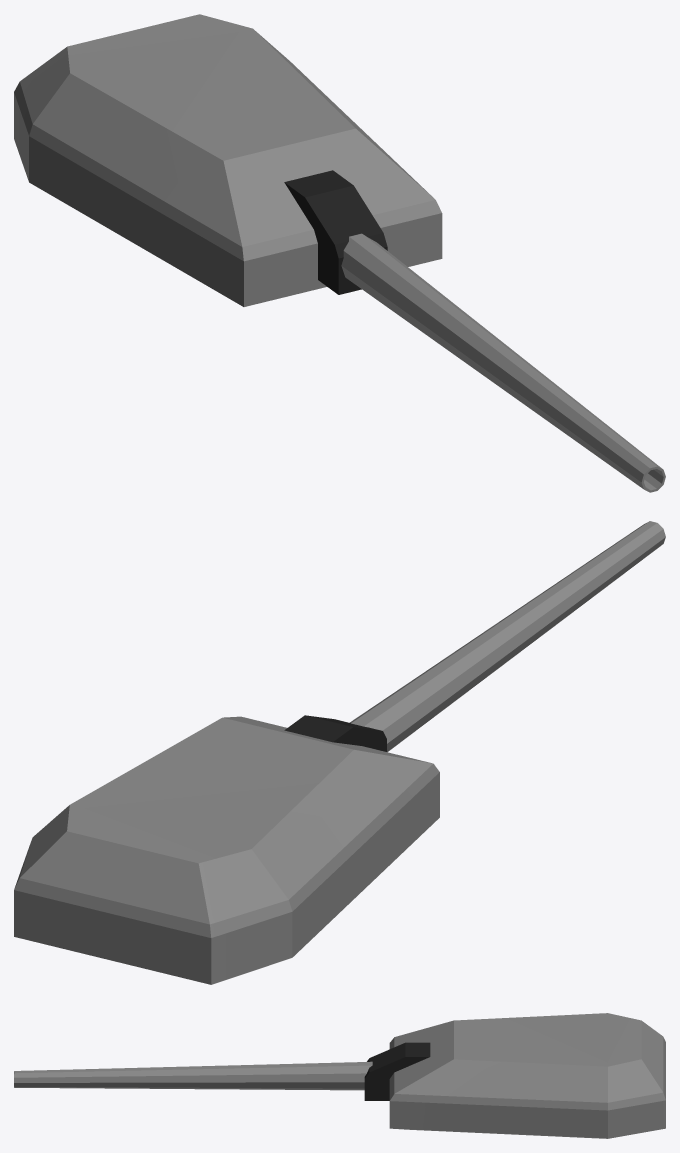
The model's file is model_polyfleet_battleship_canon01.fbx.
The picture shows the model from 3 angles, top to bottom: view 1: azimuth 30°, elevation 25°; view 2: azimuth 150°, elevation 25°; view 3: azimuth 270°, elevation 25°; orthographic projection. The views are drawn at different scales.
Visible parts, largest first — view 1: model_cannon01, model_cannon_small_barrels; view 2: model_cannon01, model_cannon_small_barrels; view 3: model_cannon01, model_cannon_small_barrels.
Boxes of the visible parts, x1,y1,x2,y2 form: model_cannon01: [14, 14, 442, 306]; model_cannon_small_barrels: [341, 233, 665, 492]; model_cannon01: [14, 715, 439, 984]; model_cannon_small_barrels: [349, 521, 665, 752]; model_cannon01: [364, 1013, 665, 1138]; model_cannon_small_barrels: [14, 1061, 372, 1090].
Bounding box in the file's own units: 238 × 91.26 × 844.
